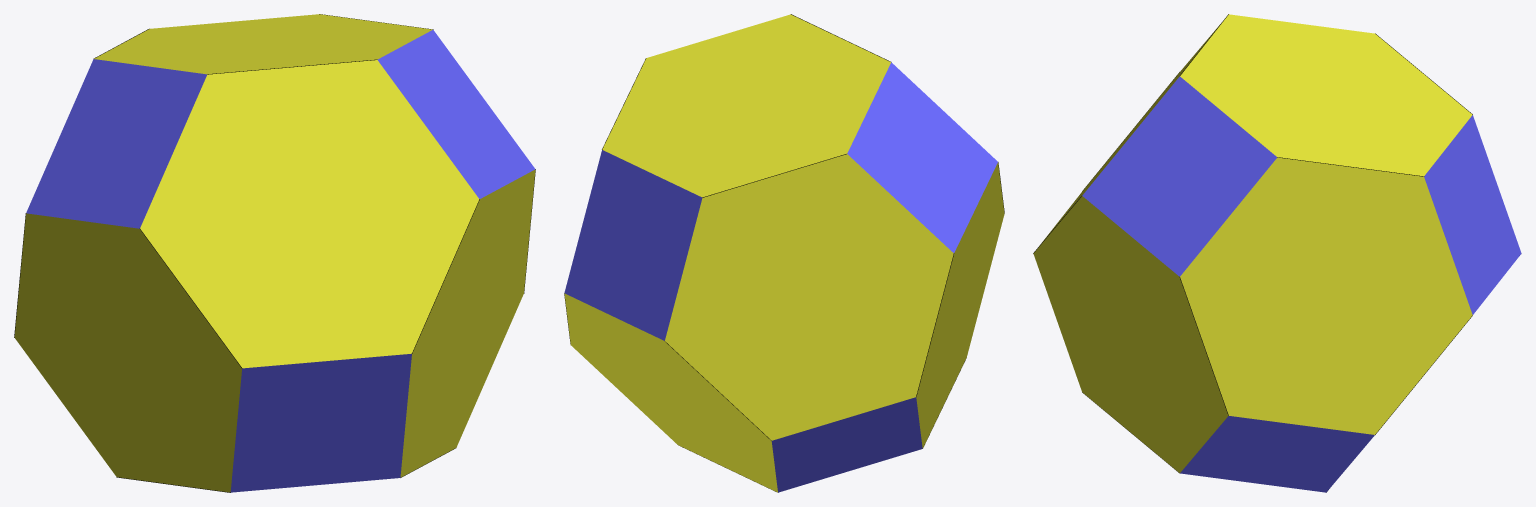
File: octahedro.obj
The picture shows the model from 3 angles, left to right: view 1: azimuth 30°, elevation 25°; view 2: azimuth 150°, elevation 25°; view 3: azimuth 270°, elevation 25°; orthographic projection. The views are drawn at different scales.
Visible parts, largest first — view 1: VIFS002, VIFS001, VILS001; view 2: VIFS002, VIFS001, VILS001; view 3: VIFS002, VIFS001, VILS001.
Boxes of the visible parts, left/top/right/bottom form: VIFS002: left=14, top=14, right=535, bottom=492; VIFS001: left=26, top=30, right=535, bottom=492; VILS001: left=14, top=14, right=535, bottom=492; VIFS002: left=564, top=14, right=1004, bottom=492; VIFS001: left=564, top=62, right=997, bottom=492; VILS001: left=564, top=14, right=1004, bottom=491; VIFS002: left=1033, top=14, right=1472, bottom=472; VIFS001: left=1082, top=76, right=1521, bottom=492; VILS001: left=1033, top=14, right=1472, bottom=492.
Bounding box in the file's own units: 1.97 × 1.89 × 2.11.
